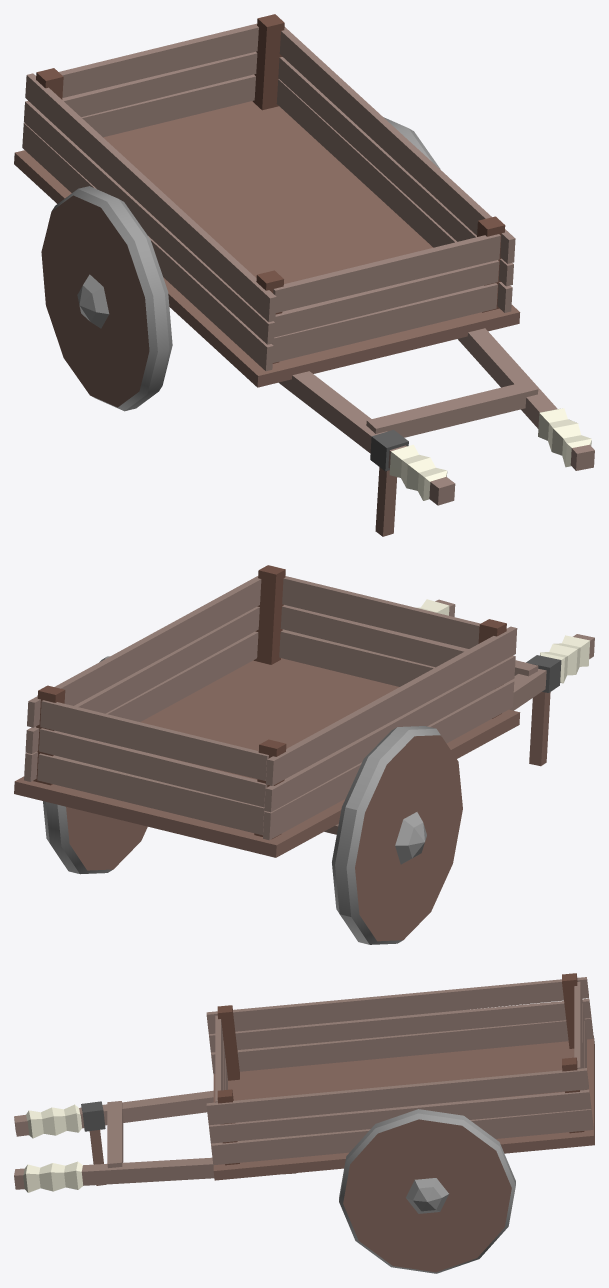
Rendered from prop_068.fbx.
3 renders of one model, top to bottom at view 1: azimuth 30°, elevation 25°; view 2: azimuth 150°, elevation 25°; view 3: azimuth 270°, elevation 25°, orthographic. The views are drawn at different scales.
Visible parts, largest first — view 1: prop.068; view 2: prop.068; view 3: prop.068.
Part boxes in pixels (x1,y1,x2,y2): prop.068: [14, 14, 594, 536]; prop.068: [14, 565, 594, 944]; prop.068: [14, 973, 594, 1273].
Size of the model in its own units: 394 by 276 by 736.
1 material, 1 textured.
